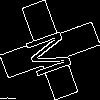M: (25, 25, 82, 80)
